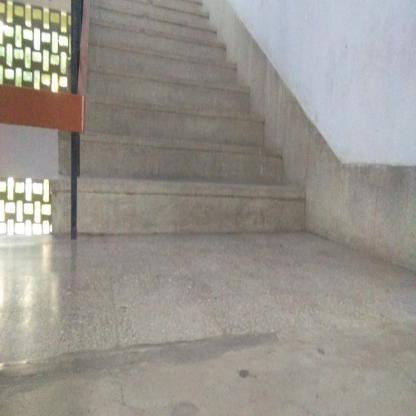stairs: (91, 53, 225, 252)
